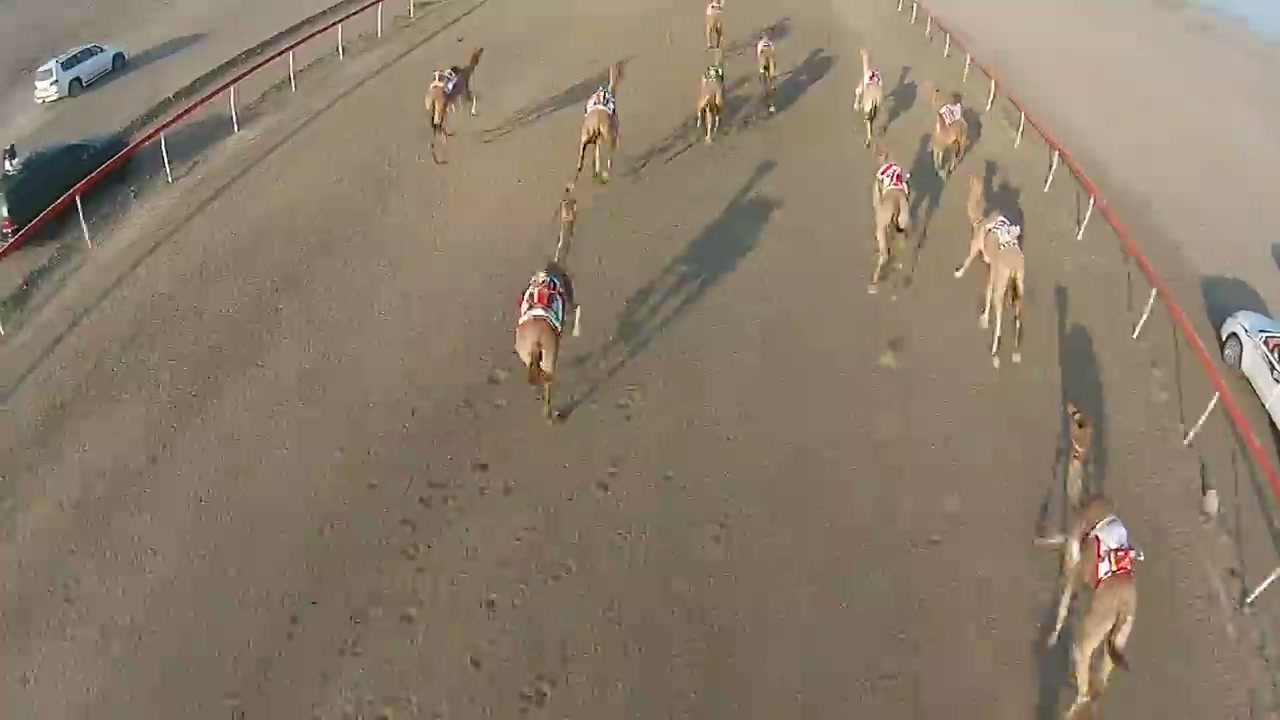animal_footprint: (328, 357, 669, 719)
